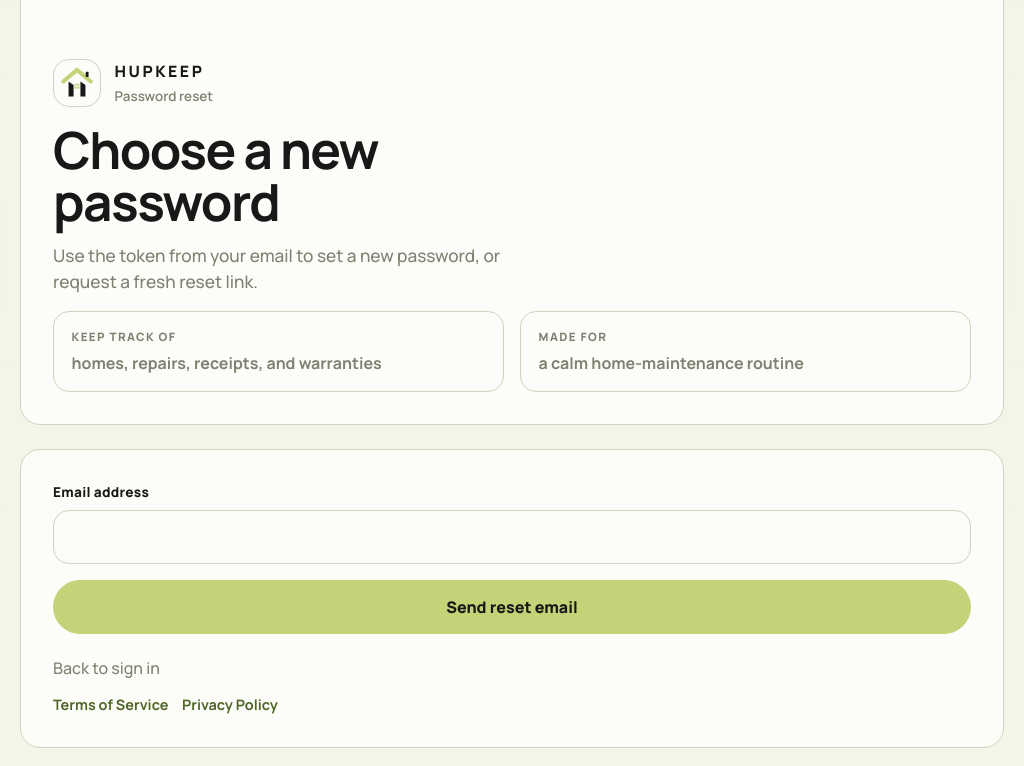
frontend workspace › password reset request mode sends a reset email
(page scrolled)
Type "reset@example.com" into the field labelled "Email address" at {"x": 512, "y": 537}, box [53,510,971,564]
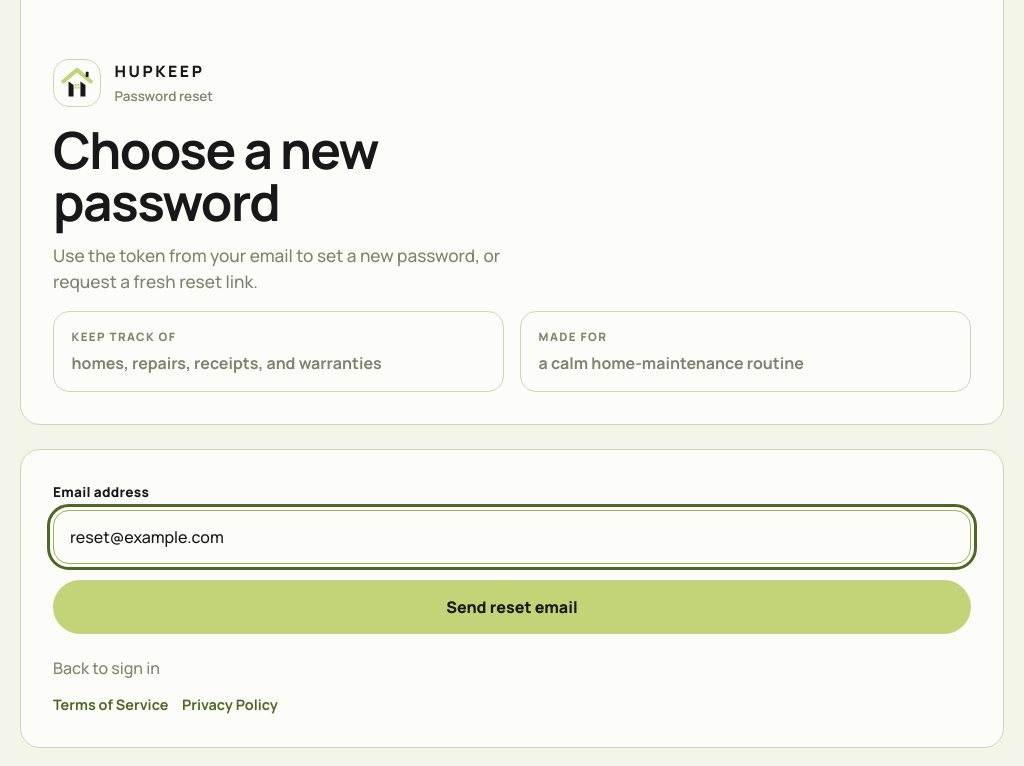
Click the button "Send reset email" at {"x": 512, "y": 607}, box [53,580,971,634]
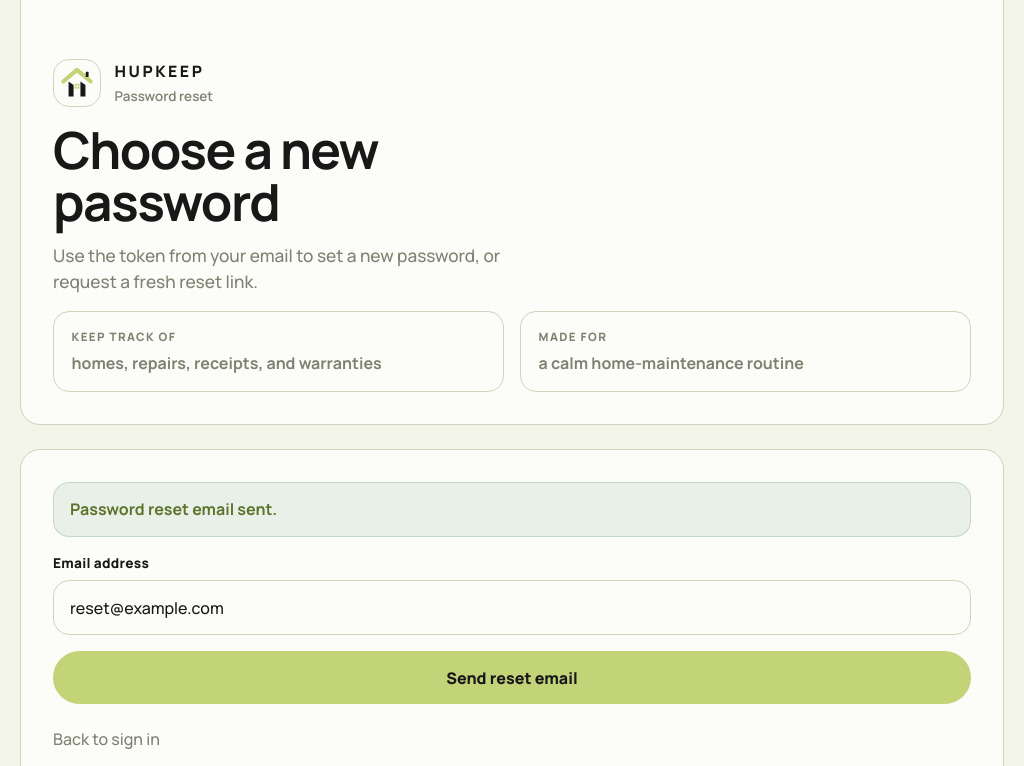
expect the text "Password reset email sent." is shown: met, box [53,482,971,537]
